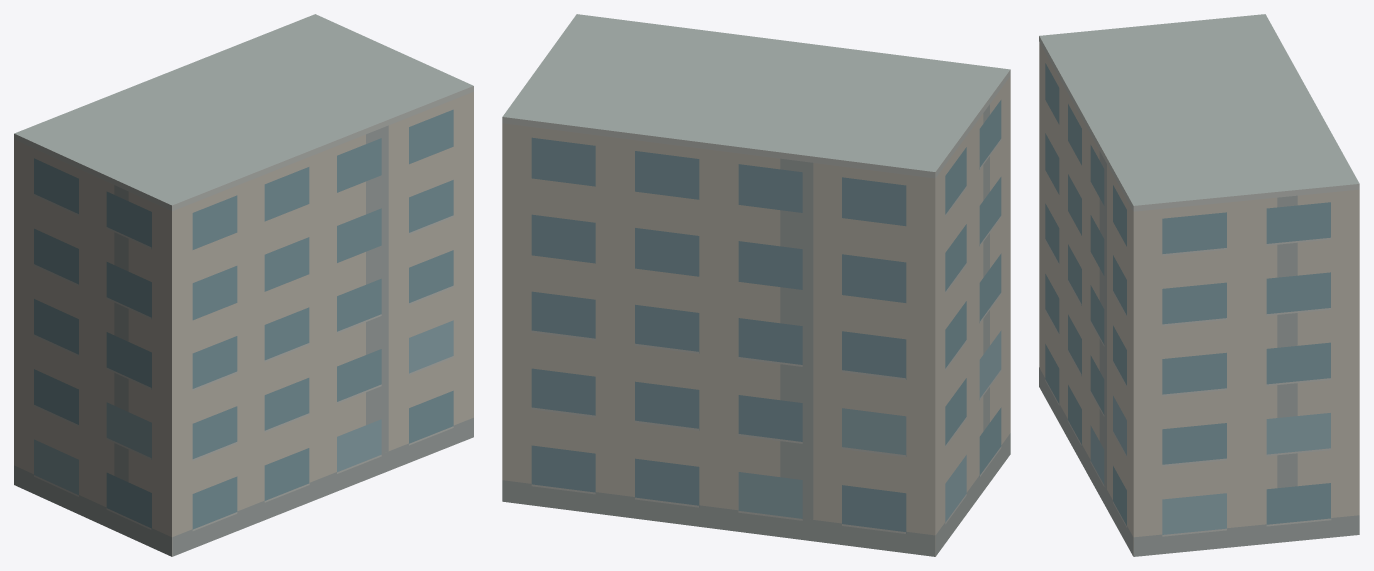
The model's file is survey-upis-32813584.glb.
3 views of the same model, side by side, from view 1: azimuth 30°, elevation 25°; view 2: azimuth 150°, elevation 25°; view 3: azimuth 270°, elevation 25° (orthographic). The views are drawn at different scales.
Parts seen in each view (by area): view 1: survey-upis-32813584.tmp; view 2: survey-upis-32813584.tmp; view 3: survey-upis-32813584.tmp.
Part boxes in pixels (x1,y1,x2,y2): survey-upis-32813584.tmp: (14,14,473,556); survey-upis-32813584.tmp: (502,14,1010,556); survey-upis-32813584.tmp: (1039,14,1359,556).
Bounding box in the file's own units: 17.48 × 14.9 × 12.34.
